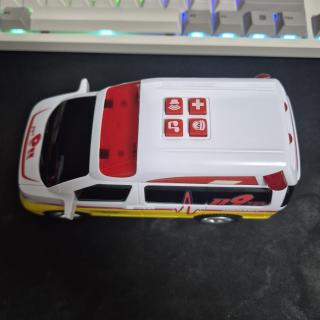Ambulance: (19, 74, 300, 224)
